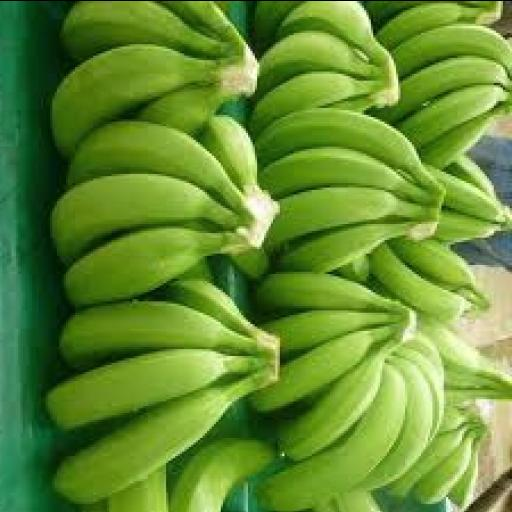banana: (52, 370, 272, 503), (259, 366, 406, 510), (50, 45, 228, 155), (45, 350, 265, 428), (50, 174, 237, 262), (65, 122, 242, 212), (59, 302, 269, 369), (254, 108, 431, 187), (63, 227, 242, 305), (250, 327, 399, 412), (277, 354, 383, 460), (266, 188, 431, 251), (61, 1, 228, 62), (359, 354, 433, 490), (259, 147, 431, 205), (250, 72, 392, 135), (377, 56, 508, 123), (257, 31, 381, 96), (168, 438, 274, 511), (368, 245, 467, 321), (420, 320, 511, 399), (275, 222, 413, 274), (398, 83, 508, 148), (275, 1, 385, 64), (391, 24, 511, 78), (418, 104, 511, 169), (386, 425, 467, 497), (375, 1, 499, 48), (261, 311, 399, 353), (254, 272, 397, 312), (161, 279, 258, 335), (136, 83, 237, 135), (393, 336, 442, 437), (389, 238, 474, 289), (427, 168, 504, 224), (197, 115, 256, 187), (414, 434, 474, 503), (159, 1, 242, 46), (418, 318, 481, 374), (106, 468, 167, 511), (252, 1, 301, 51), (434, 209, 501, 244), (364, 1, 445, 28), (400, 331, 442, 381), (443, 156, 495, 196), (448, 443, 479, 510), (443, 386, 511, 406), (311, 491, 379, 511), (443, 368, 499, 392), (229, 247, 269, 280), (329, 256, 367, 283), (439, 407, 470, 433), (325, 97, 374, 112), (177, 259, 212, 280)
